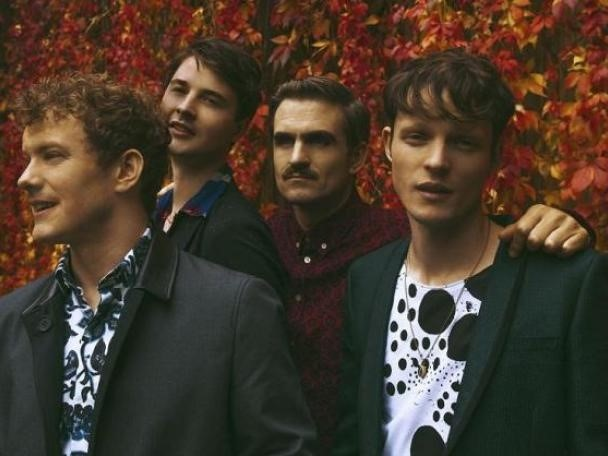face_no_mask: (16, 75, 168, 241), (382, 52, 507, 225), (265, 77, 372, 203), (162, 38, 259, 159)
